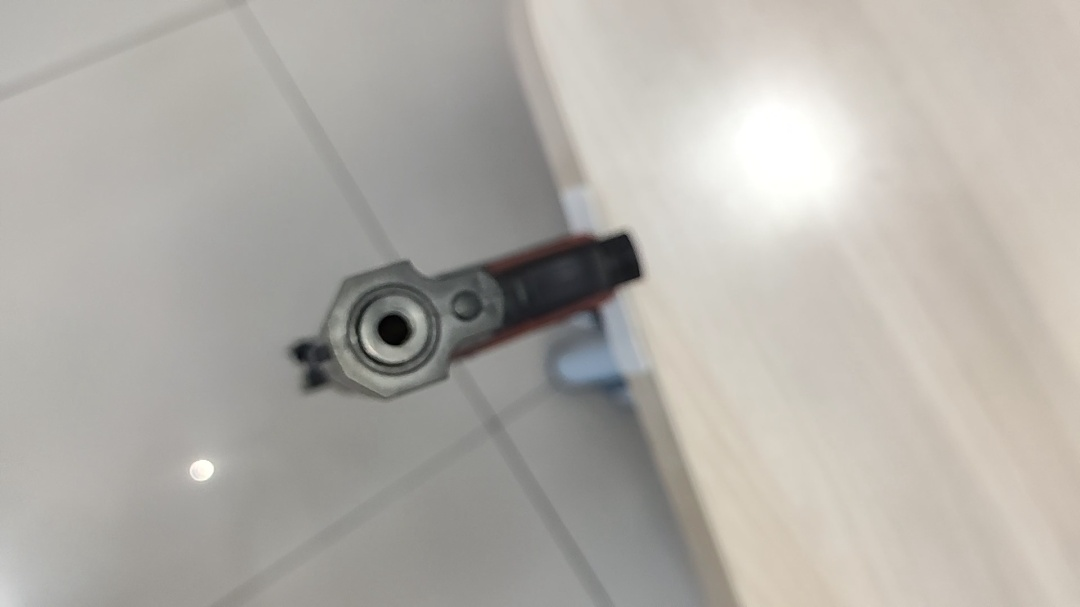gun: (346, 258, 396, 289)
